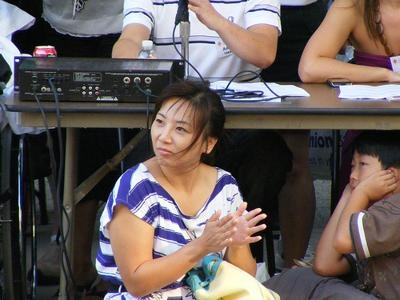person without safety: (95, 77, 231, 300)
